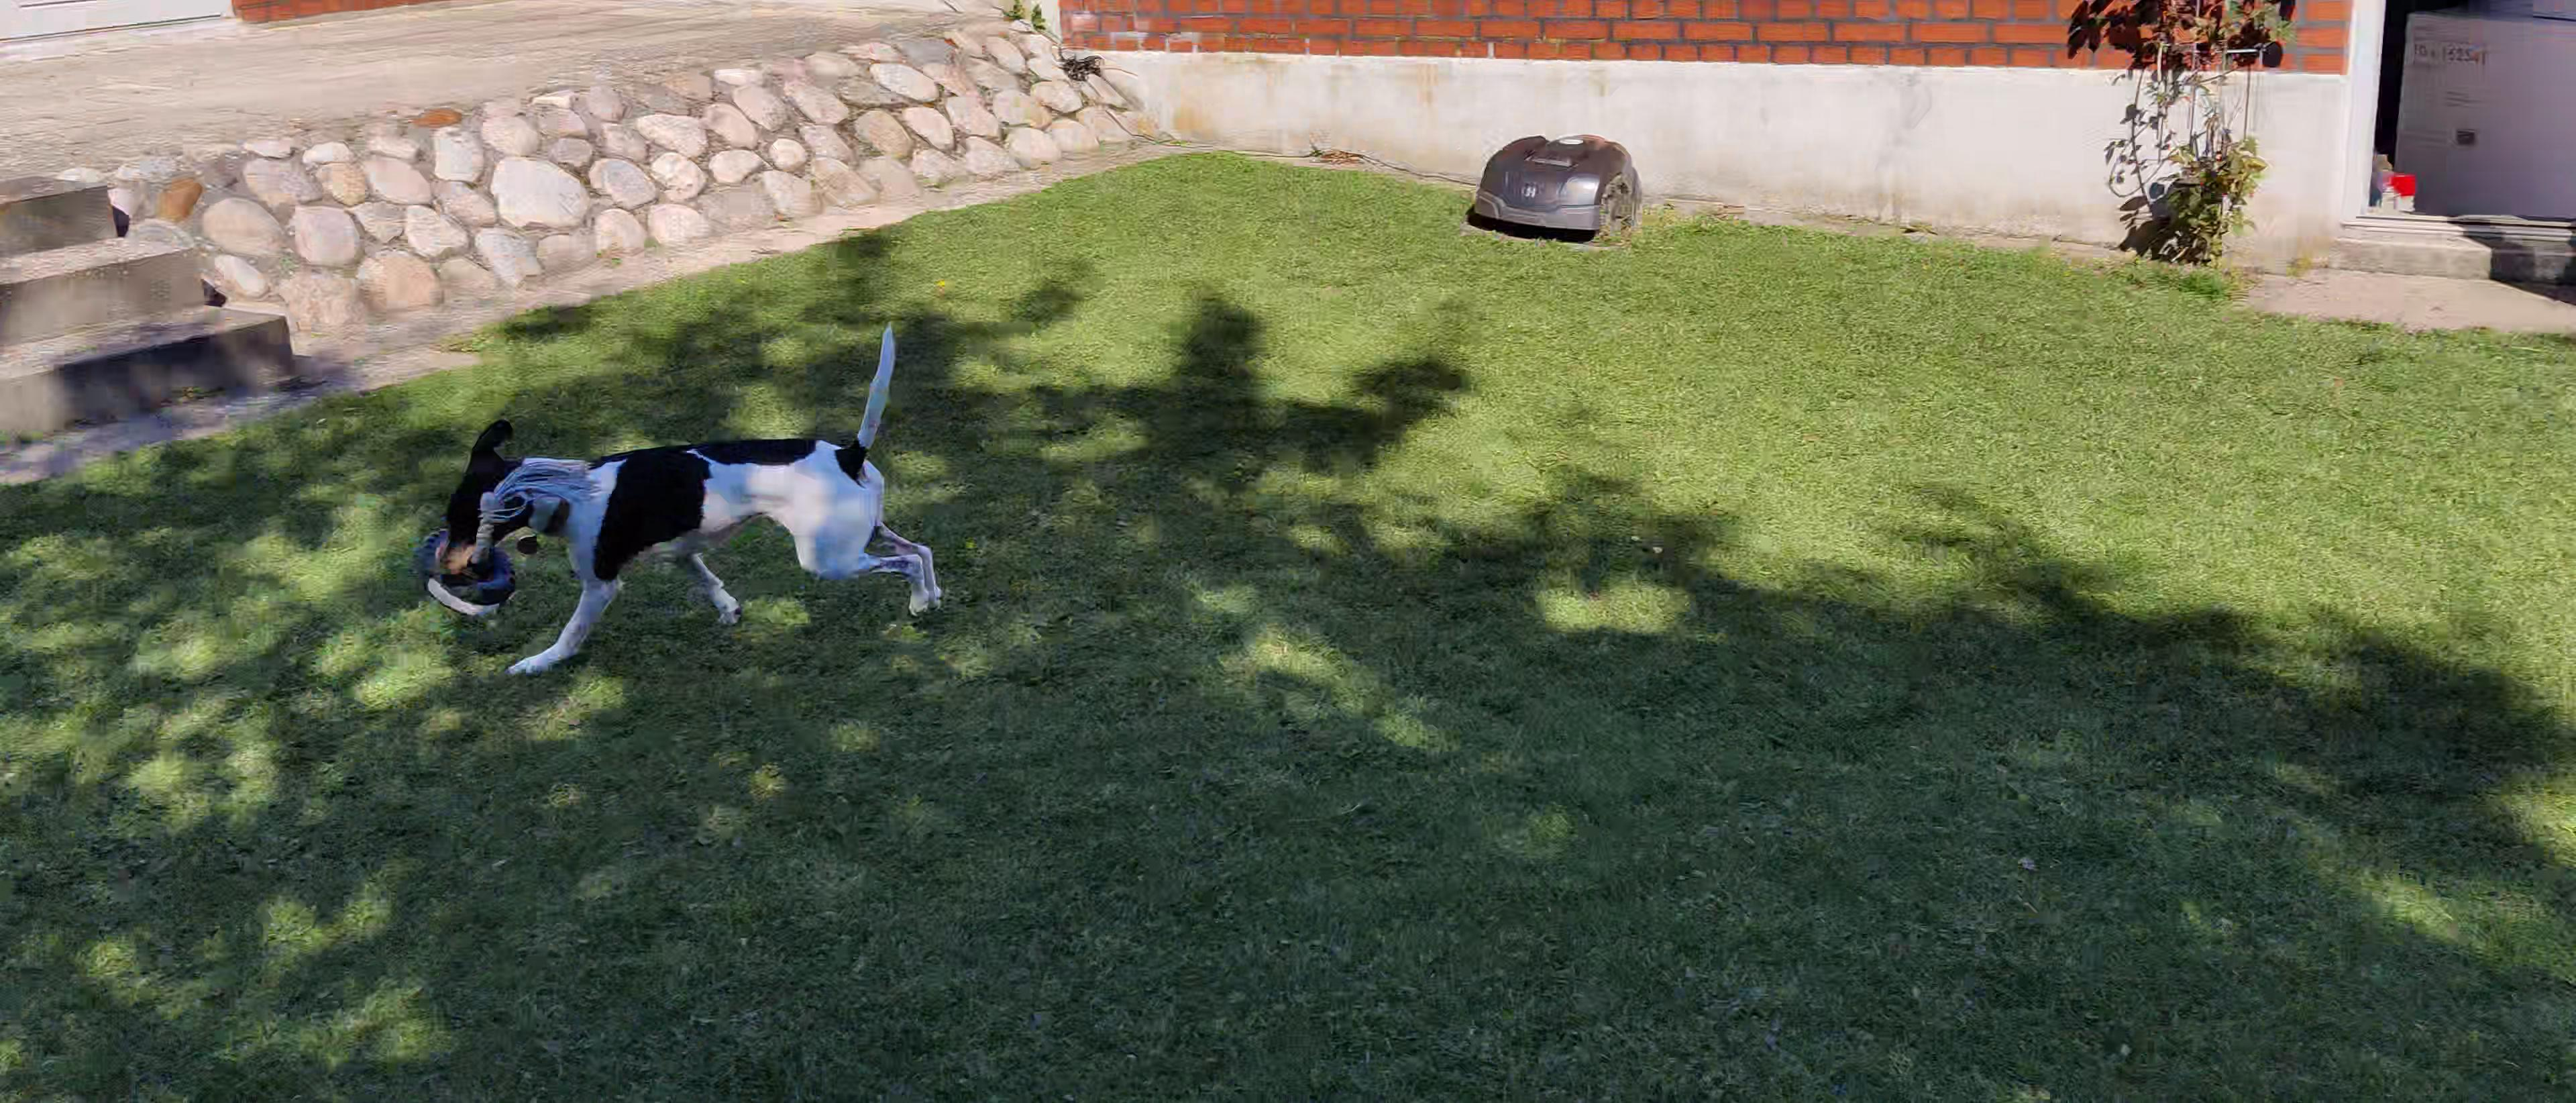Dog: (430, 317, 951, 677)
